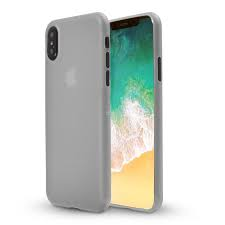iphone: (42, 10, 115, 212)
